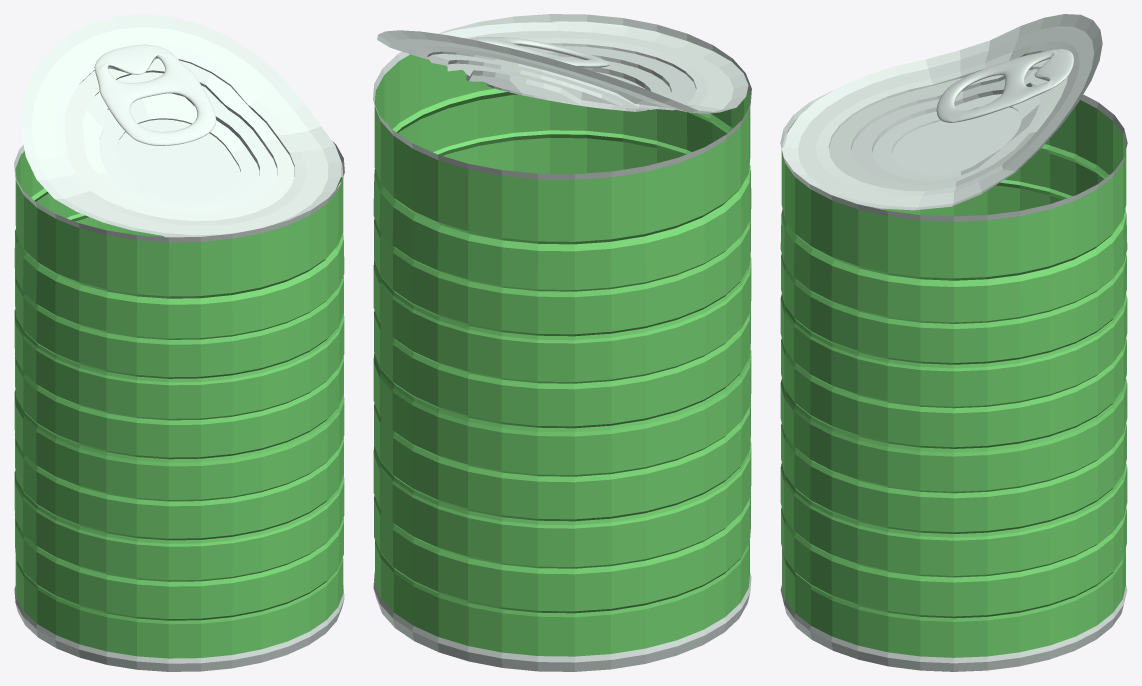
File: lata3.fbx
3 renders of one model, left to right at view 1: azimuth 30°, elevation 25°; view 2: azimuth 150°, elevation 25°; view 3: azimuth 270°, elevation 25°, orthographic. The views are drawn at different scales.
Visible parts, largest first — view 1: Cylinder, Cube; view 2: Cylinder, Cube; view 3: Cylinder, Cube.
Boxes of the visible parts, x1,y1,x2,y2 form: Cylinder: (14,14,344,671); Cube: (94,44,216,145); Cylinder: (373,14,751,671); Cube: (469,37,609,67); Cylinder: (780,14,1127,671); Cube: (936,49,1073,122).
Size of the model in its own units: 200 by 356 by 200.
